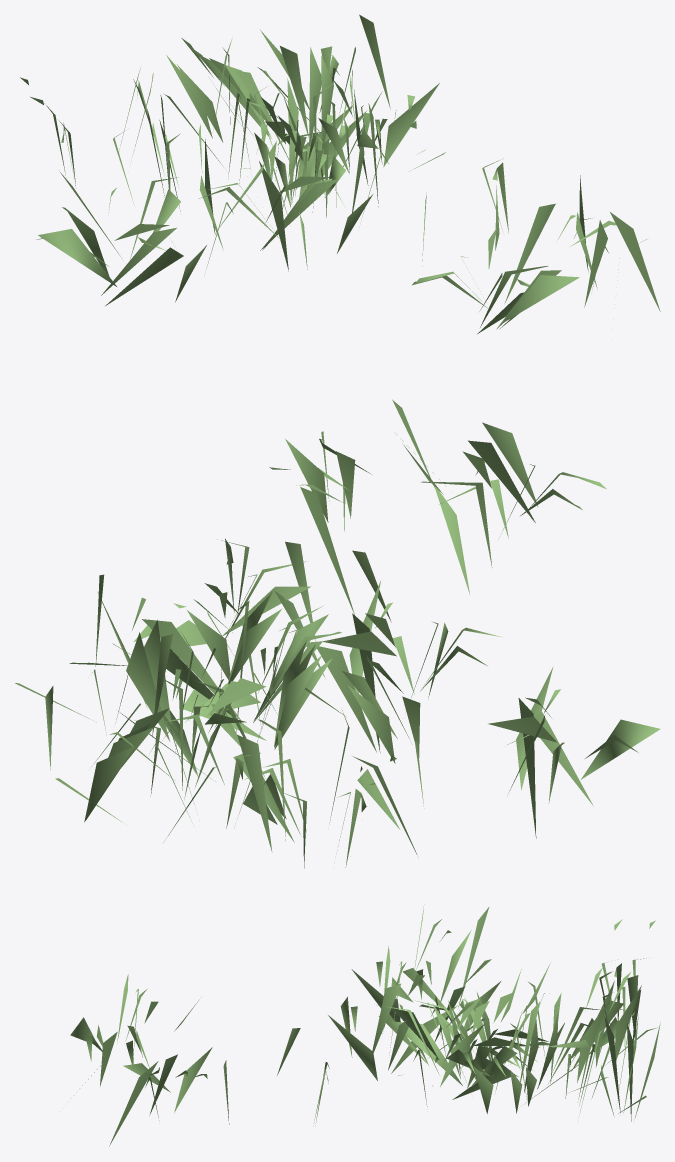
Rendered from grass_2.glb.
3 views of the same model, one above another, from view 1: azimuth 30°, elevation 25°; view 2: azimuth 150°, elevation 25°; view 3: azimuth 270°, elevation 25° (orthographic). The views are drawn at different scales.
Visible parts, largest first — view 1: grass_2; view 2: grass_2; view 3: grass_2.
Part boxes in pixels (x1,y1,x2,y2): grass_2: (20, 14, 660, 333); grass_2: (15, 399, 660, 868); grass_2: (70, 904, 660, 1146).
Bounding box in the file's own units: 0.634 × 0.2376 × 0.8572.
